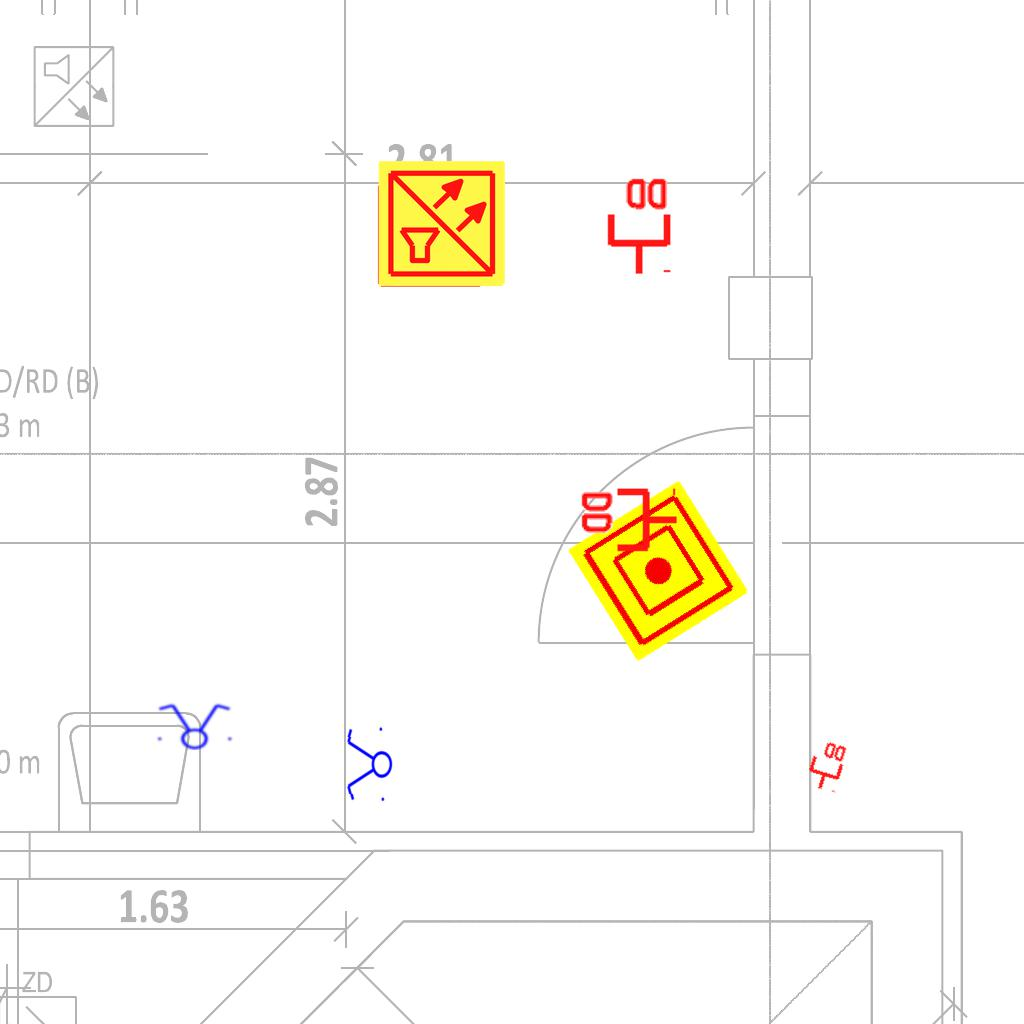Datenanschluss_zweifach: (603, 174, 672, 277), (577, 487, 680, 556), (802, 736, 850, 795)
NAM-Nichtautomatischer_Melder: (567, 480, 749, 662)
OKW_Multisensormelder_(Kombination_optischer_Rauch-Kahlenmonoxid_Waerme-Melder): (376, 158, 508, 290)
Serienschalter: (344, 722, 394, 808), (152, 702, 236, 750)
